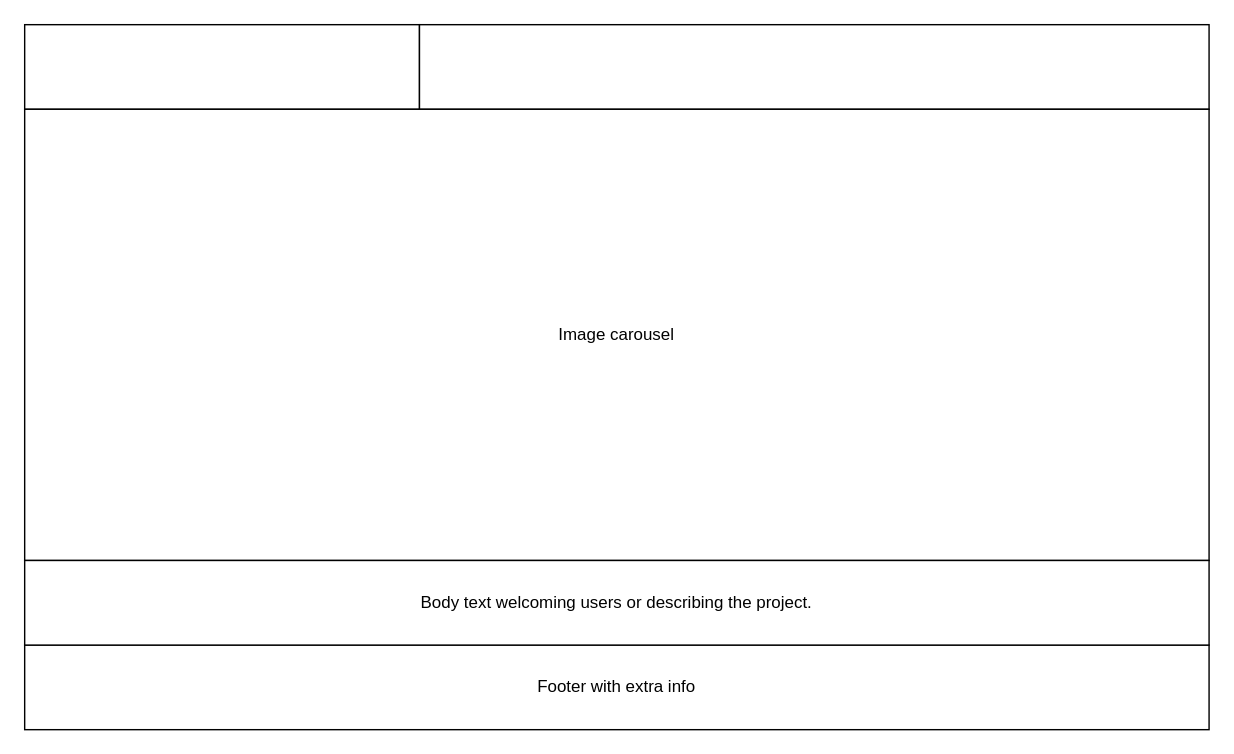
The diagram is 1234 pixels wide and 754 high, and some of its shapes have lost their labels. The shapes that lost their labels are listed below. From the top down, each one's centre as x and y in pixels, then its label:
At (221,66): "Project Name".
At (813,66): "Navigation Bar".
